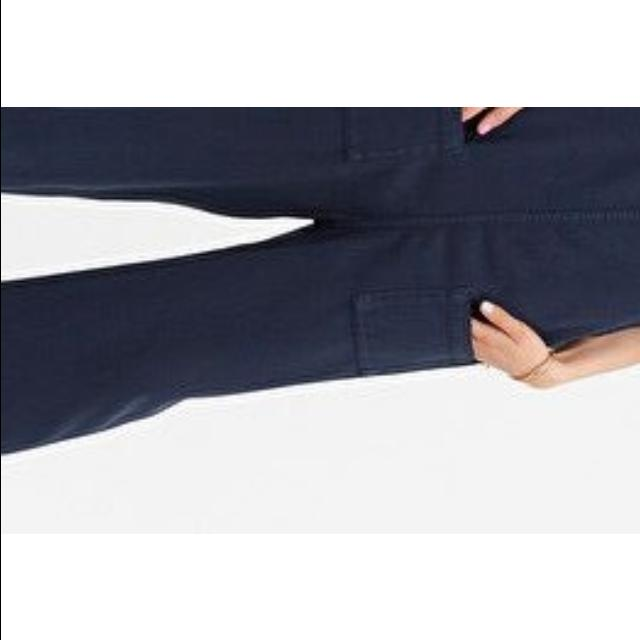cotton: (0, 107, 640, 466)
